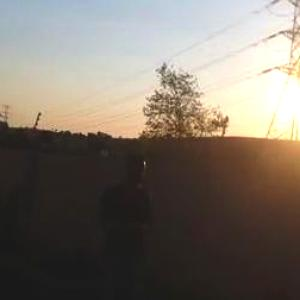follow: (95, 146, 161, 299)
